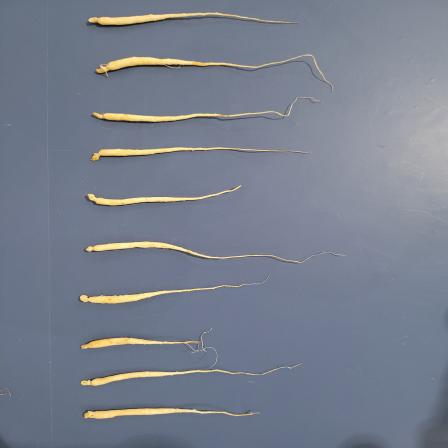Ginseng: (94, 53, 335, 93), (82, 240, 347, 267), (92, 96, 322, 126), (76, 362, 302, 388), (78, 278, 269, 306), (87, 146, 316, 163), (84, 184, 242, 208), (86, 11, 297, 28), (80, 326, 211, 352), (81, 406, 266, 421)
head: (96, 61, 112, 75), (92, 112, 110, 121), (88, 16, 105, 25), (91, 149, 103, 161), (87, 193, 100, 204), (79, 294, 93, 303), (83, 410, 96, 419), (81, 379, 95, 387), (85, 245, 97, 253), (81, 342, 92, 350)
